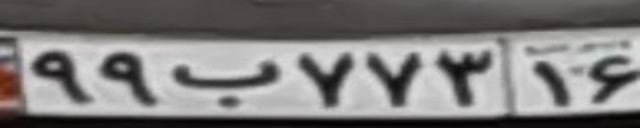1: (530, 59, 571, 106)
3: (435, 48, 492, 107)
6: (581, 53, 639, 102)
7: (365, 49, 419, 109), (297, 50, 352, 108)
9: (98, 49, 157, 104), (31, 48, 88, 103)
be: (171, 58, 282, 107)
